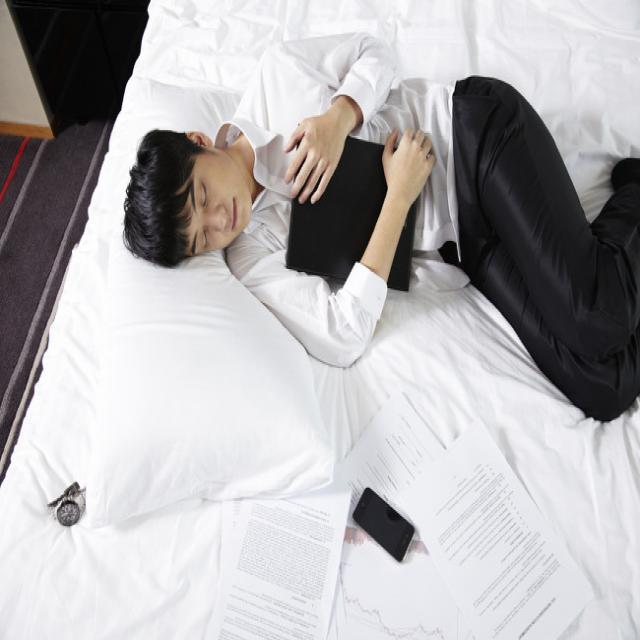people: (114, 43, 640, 426)
